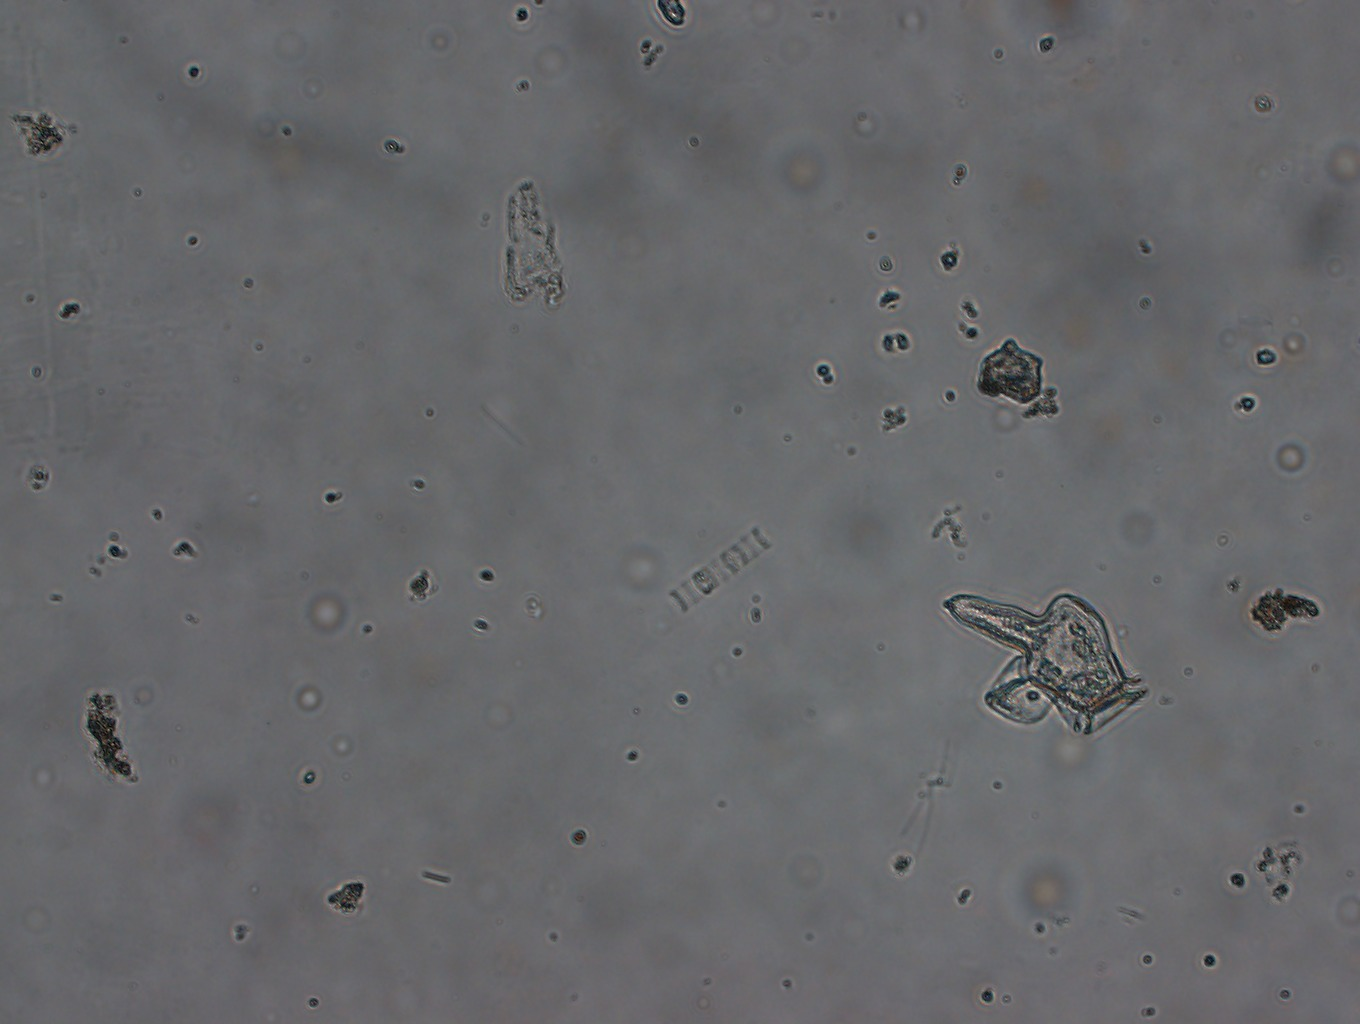dinophysis caudata: (937, 574, 1165, 740)
